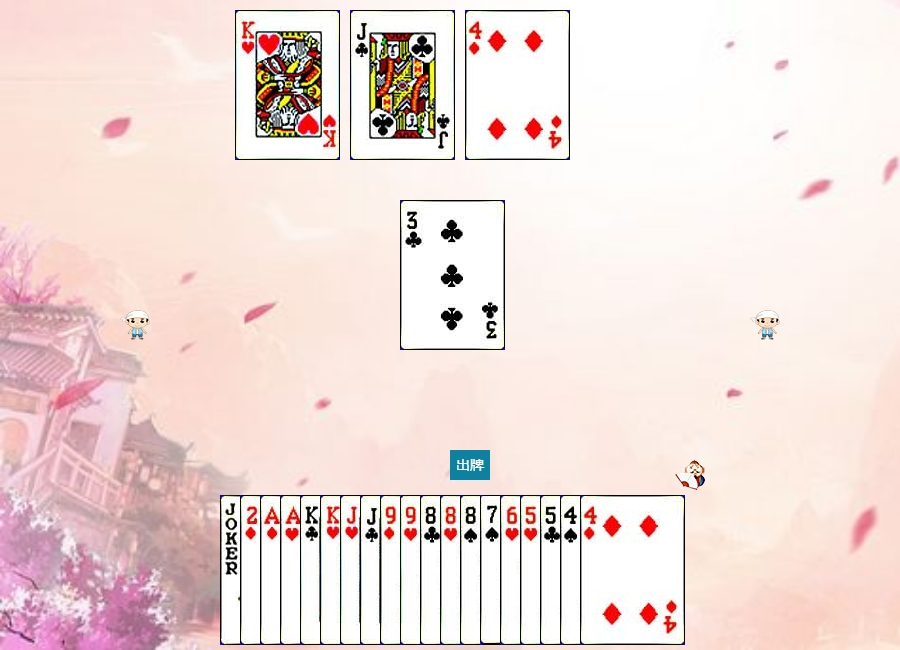11~2: (350, 10, 455, 160), (360, 495, 465, 645)
11~3: (340, 495, 445, 645)
13~2: (300, 495, 405, 645)
13~3: (235, 10, 340, 160), (320, 495, 425, 645)
14~1: (260, 495, 365, 645)
14~3: (280, 495, 385, 645)
15~1: (240, 495, 345, 645)
17~3: (220, 495, 325, 645)
3~2: (400, 200, 505, 350)
4~1: (465, 10, 570, 160), (580, 495, 685, 645)
4~4: (560, 495, 665, 645)
5~2: (540, 495, 645, 645)
5~3: (520, 495, 625, 645)
6~3: (500, 495, 605, 645)
7~4: (480, 495, 585, 645)
8~2: (420, 495, 525, 645)
8~3: (440, 495, 545, 645)
8~4: (460, 495, 565, 645)
9~1: (380, 495, 485, 645)
9~3: (400, 495, 505, 645)
